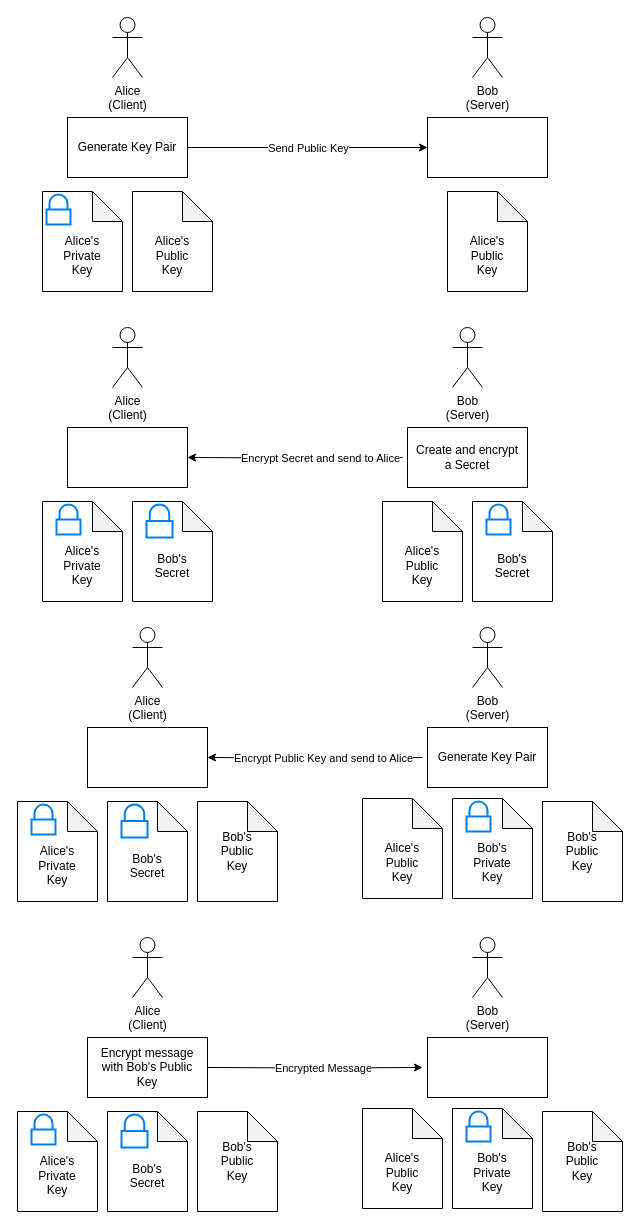
Image size: 640x1229. Some labels were removed from this diagram. Here are the shapes that lost their labels. From the top down, the box of each, then its label:
(426, 116, 548, 178): Store Alice's Public Key
(66, 426, 188, 488): Decrypt Bob's Secret
(86, 726, 208, 788): Store Bob's Public Key
(426, 1036, 548, 1098): Decrypt message with Bob's Private Key
